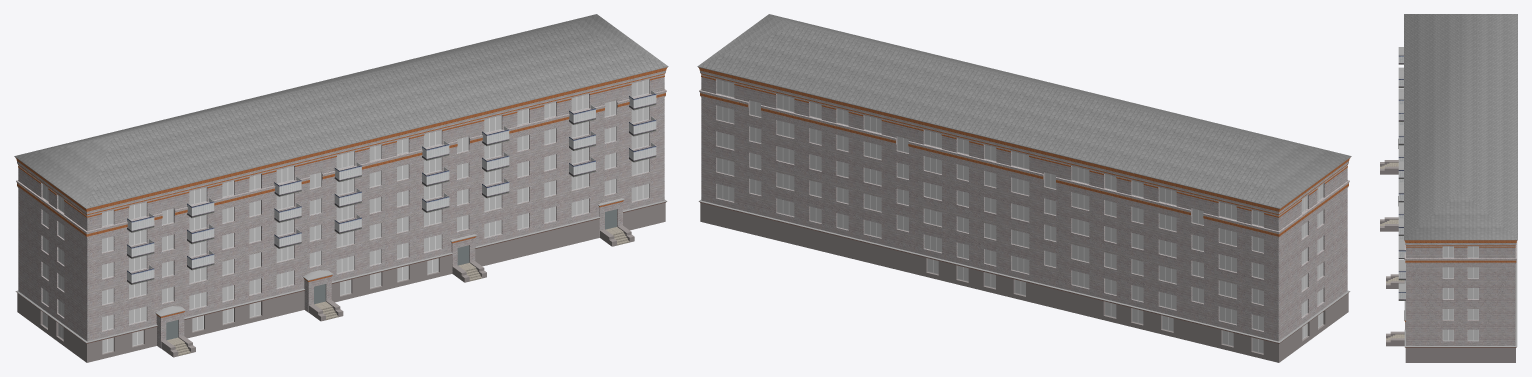
3 views of the same model, side by side, from view 1: azimuth 30°, elevation 25°; view 2: azimuth 150°, elevation 25°; view 3: azimuth 270°, elevation 25° (orthographic). The views are drawn at different scales.
Visible parts, largest first — view 1: Soviet residential building, object 2, object 3; view 2: Soviet residential building, object 2; view 3: Soviet residential building, object 2, object 3.
Boxes of the visible parts, x1,y1,x2,y2 form: Soviet residential building: [14, 14, 668, 362]; object 2: [15, 198, 667, 342]; object 3: [167, 227, 629, 356]; Soviet residential building: [697, 14, 1351, 362]; object 2: [698, 199, 1350, 342]; Soviet residential building: [1380, 14, 1517, 362]; object 2: [1398, 138, 1517, 346]; object 3: [1380, 162, 1404, 340].
Size of the model in its own units: 70.1 by 21.39 by 18.06.
Materials: 13 (5 with a texture image).
